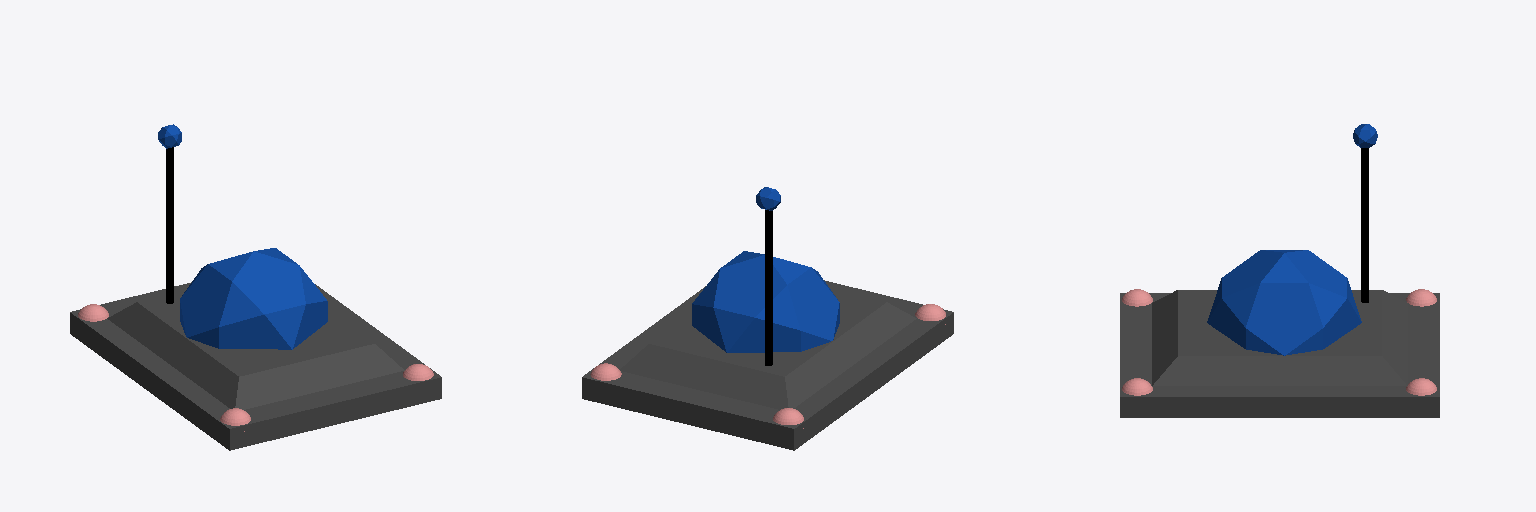
Rendered from ShieldGenerator.obj.
3 views of the same model, side by side, from view 1: azimuth 30°, elevation 25°; view 2: azimuth 150°, elevation 25°; view 3: azimuth 270°, elevation 25° (orthographic).
Visible parts, largest first — view 1: Box001, Hedra001, Cylinder001; view 2: Box001, Hedra001, Cylinder001; view 3: Box001, Hedra001, Cylinder001.
Boxes of the visible parts, x1=… form: Box001: x1=70, y1=282, x2=441, y2=450; Hedra001: x1=180, y1=248, x2=327, y2=349; Cylinder001: x1=166, y1=147, x2=173, y2=303; Box001: x1=582, y1=280, x2=953, y2=450; Hedra001: x1=692, y1=251, x2=839, y2=352; Cylinder001: x1=765, y1=210, x2=772, y2=365; Box001: x1=1120, y1=290, x2=1439, y2=417; Hedra001: x1=1207, y1=250, x2=1361, y2=355; Cylinder001: x1=1361, y1=148, x2=1368, y2=302.
Bounding box in the file's own units: 28.55 × 28.28 × 37.13.